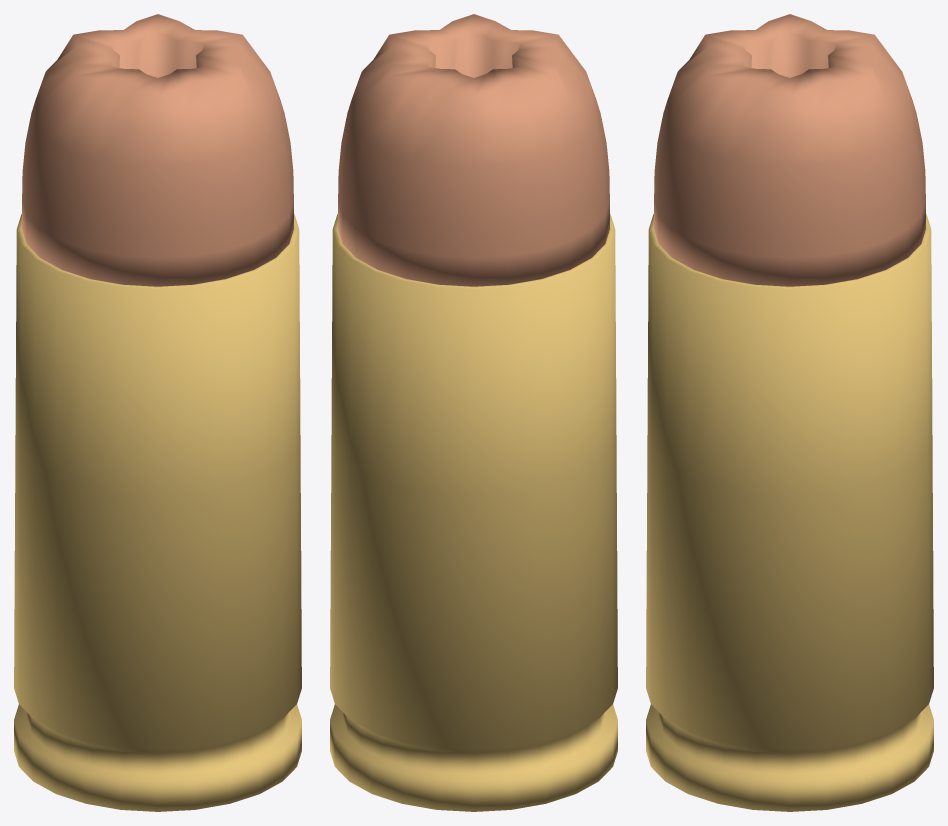
3 views of the same model, side by side, from view 1: azimuth 30°, elevation 25°; view 2: azimuth 150°, elevation 25°; view 3: azimuth 270°, elevation 25° (orthographic).
Parts seen in each view (by area): view 1: vaina, bala_hueca; view 2: vaina, bala_hueca; view 3: vaina, bala_hueca.
Boxes of the visible parts, x1,y1,x2,y2 form: vaina: (14, 214, 301, 811); bala_hueca: (22, 14, 293, 286); vaina: (330, 214, 617, 811); bala_hueca: (338, 14, 609, 286); vaina: (646, 214, 933, 811); bala_hueca: (654, 14, 925, 286).
Bounding box in the file's own units: 0.0108 × 0.0288 × 0.0108.
